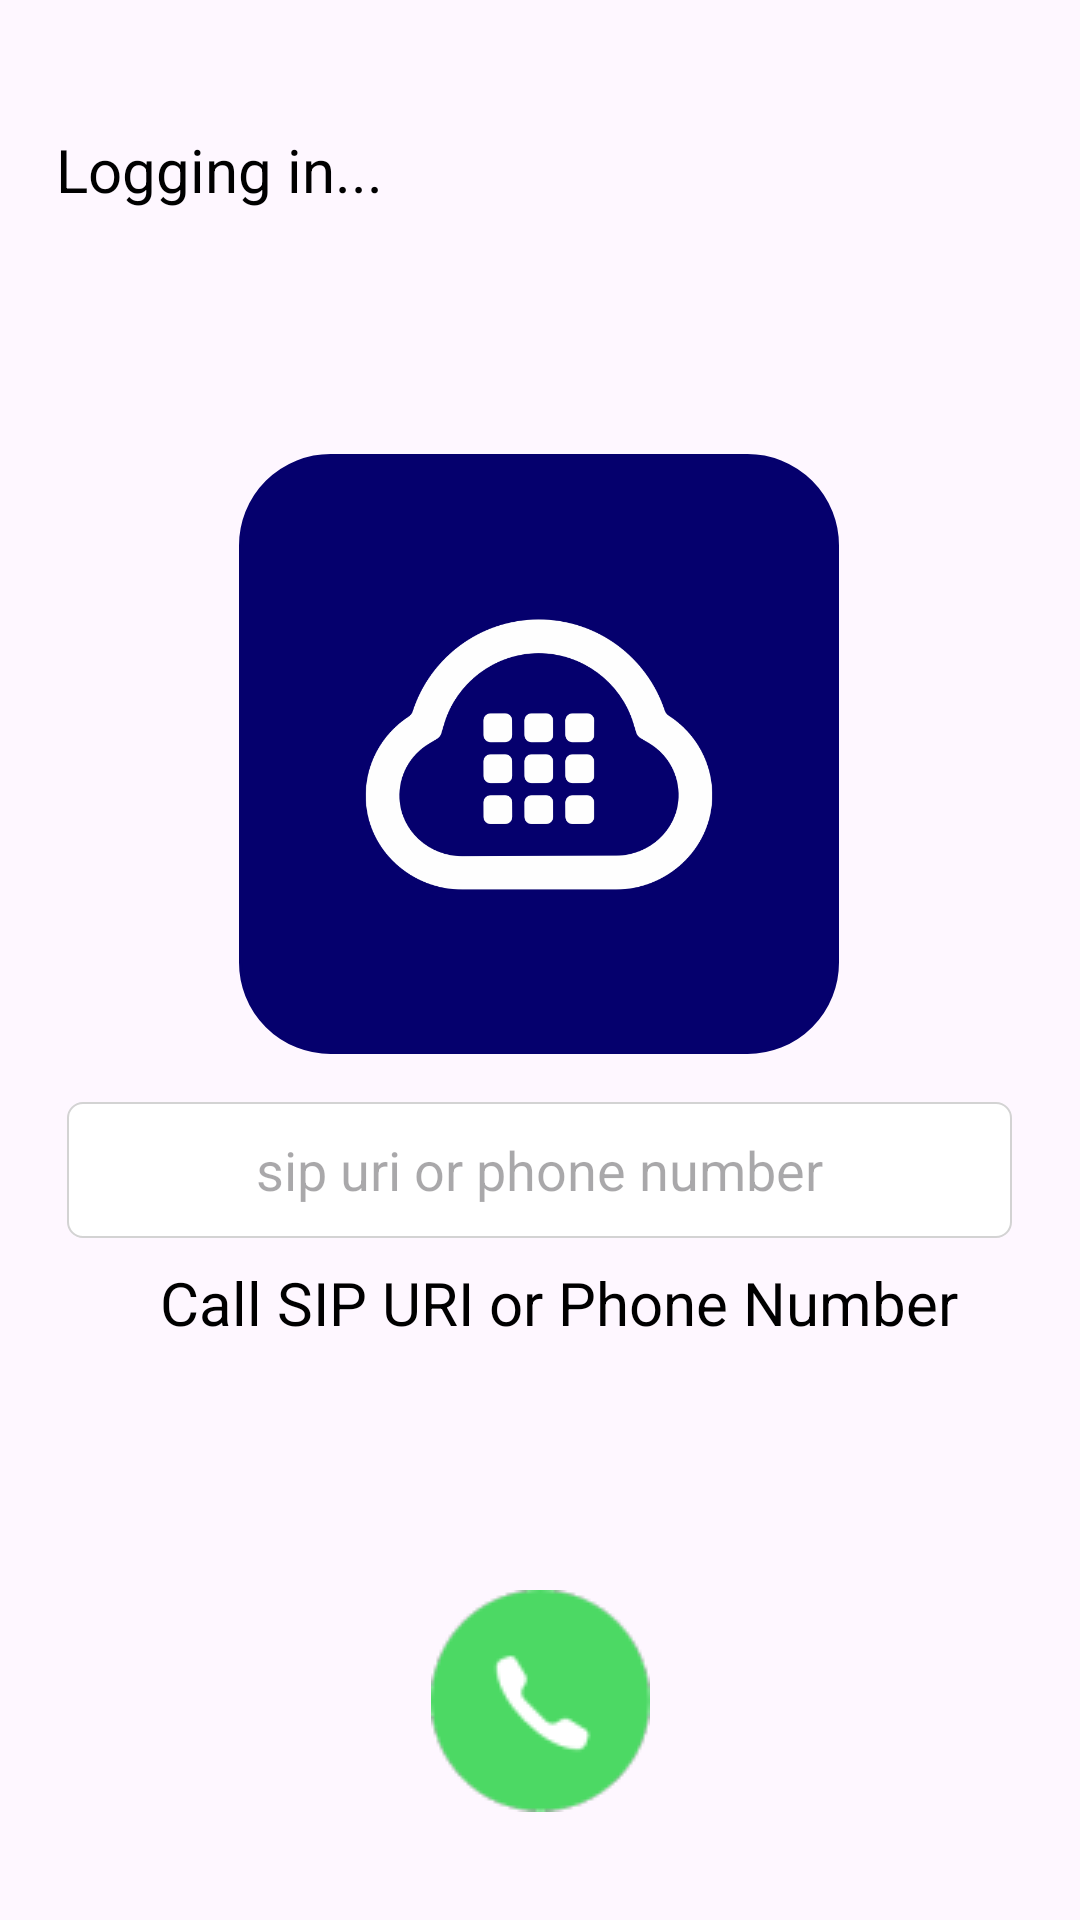

Icons on this 1080×1920 Android screen, each with its box as (left=x1, top=y1, right=x2, bottom=y2):
call start: (left=431, top=1590, right=650, bottom=1812)
